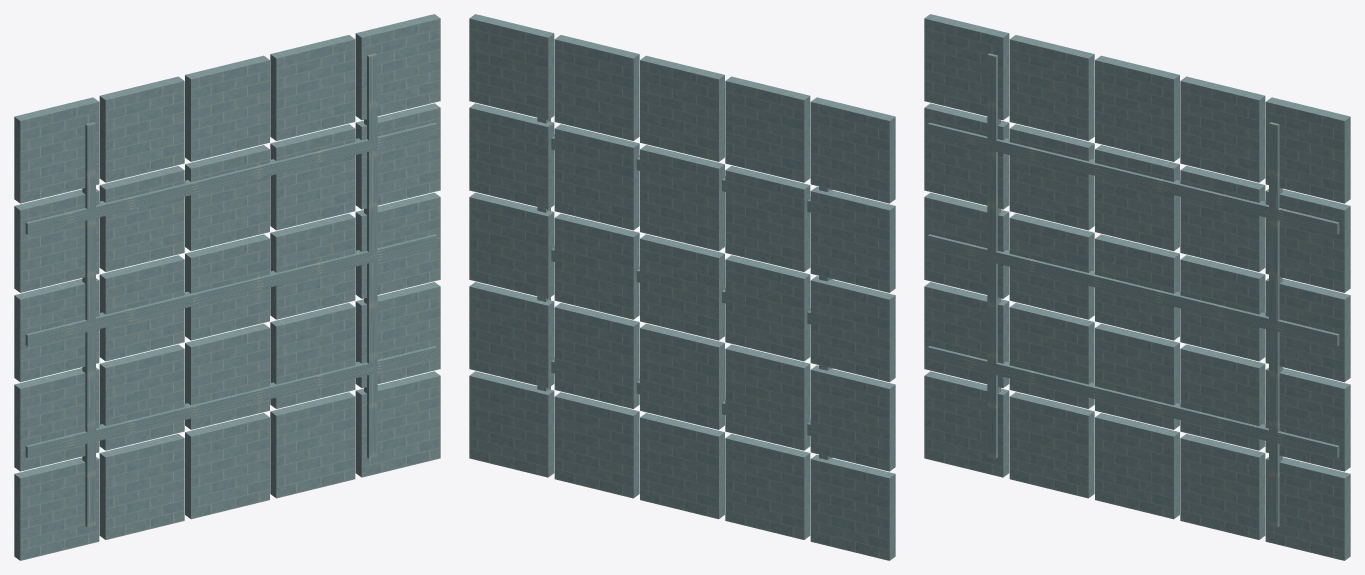
Rendered from backsplash.gltf.
3 views of the same model, side by side, from view 1: azimuth 30°, elevation 25°; view 2: azimuth 150°, elevation 25°; view 3: azimuth 330°, elevation 25° (orthographic).
Parts seen in each view (by area): view 1: tile_0.2_-0.4, tile_-0.2_0.4, tile_-0.2_-0.4, tile_0.2_0.4, tile_0_-0.4, tile_0_0.4, tile_-0.4_0.4, tile_0.4_0.4, tile_-0.4_-0.4, tile_0.4_-0.4, tile_-0.2_0, tile_0.2_0 (+18 smaller); view 2: tile_0.4_0.4, tile_0.2_-0.4, tile_-0.4_0.4, tile_-0.2_0.4, tile_-0.2_-0.4, tile_0.2_0.4, tile_0.4_-0.4, tile_-0.4_-0.2, tile_-0.4_0.2, tile_-0.4_-0.4, tile_-0.4_0, tile_0.2_0 (+13 smaller); view 3: tile_-0.2_-0.4, tile_0.2_0.4, tile_0.2_-0.4, tile_-0.2_0.4, tile_0_-0.4, tile_0_0.4, tile_0.4_0.4, tile_-0.4_0.4, tile_-0.4_-0.4, tile_0.4_-0.4, tile_-0.2_0, tile_0.2_0 (+18 smaller).
Boxes of the visible parts, bbox=[...] form: tile_0.2_-0.4: bbox=[270, 392, 355, 498]; tile_-0.2_0.4: bbox=[99, 76, 184, 182]; tile_-0.2_-0.4: bbox=[99, 434, 184, 539]; tile_0.2_0.4: bbox=[270, 35, 355, 140]; tile_0_-0.4: bbox=[185, 413, 269, 519]; tile_0_0.4: bbox=[185, 55, 269, 161]; tile_-0.4_0.4: bbox=[14, 97, 99, 203]; tile_0.4_0.4: bbox=[355, 14, 440, 120]; tile_-0.4_-0.4: bbox=[14, 457, 99, 560]; tile_0.4_-0.4: bbox=[355, 371, 440, 477]; tile_-0.2_0: bbox=[99, 255, 184, 361]; tile_0.2_0: bbox=[270, 213, 355, 319]; tile_0.4_0.4: bbox=[469, 14, 554, 120]; tile_0.2_-0.4: bbox=[554, 392, 639, 498]; tile_-0.4_0.4: bbox=[810, 97, 895, 203]; tile_-0.2_0.4: bbox=[725, 76, 810, 182]; tile_-0.2_-0.4: bbox=[725, 434, 810, 539]; tile_0.2_0.4: bbox=[554, 35, 639, 140]; tile_0.4_-0.4: bbox=[469, 371, 554, 477]; tile_-0.4_-0.2: bbox=[810, 365, 895, 471]; tile_-0.4_0.2: bbox=[810, 186, 895, 292]; tile_-0.4_-0.4: bbox=[810, 454, 895, 560]; tile_-0.4_0: bbox=[810, 276, 895, 382]; tile_0.2_0: bbox=[554, 213, 639, 319]; tile_-0.2_-0.4: bbox=[1009, 392, 1094, 498]; tile_0.2_0.4: bbox=[1180, 76, 1265, 182]; tile_0.2_-0.4: bbox=[1180, 434, 1265, 539]; tile_-0.2_0.4: bbox=[1009, 35, 1094, 140]; tile_0_-0.4: bbox=[1095, 413, 1179, 519]; tile_0_0.4: bbox=[1095, 55, 1179, 161]; tile_0.4_0.4: bbox=[1265, 97, 1350, 203]; tile_-0.4_0.4: bbox=[924, 14, 1009, 120]; tile_-0.4_-0.4: bbox=[924, 371, 1009, 477]; tile_0.4_-0.4: bbox=[1265, 457, 1350, 560]; tile_-0.2_0: bbox=[1009, 213, 1094, 319]; tile_0.2_0: bbox=[1180, 255, 1265, 361].
Bounding box in the file's own units: 0.985 × 0.985 × 0.0325.
1 material, 1 textured.
